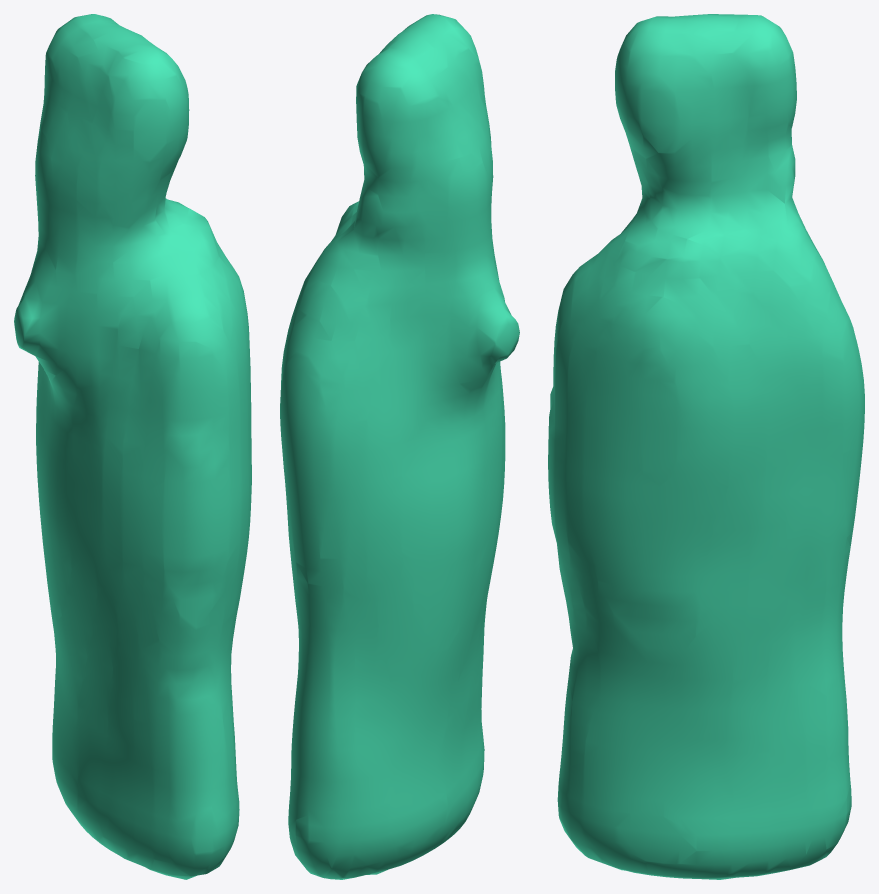
The picture shows the model from 3 angles, left to right: view 1: azimuth 30°, elevation 25°; view 2: azimuth 150°, elevation 25°; view 3: azimuth 270°, elevation 25°; orthographic projection.
Parts seen in each view (by area): view 1: Liquid_Domain; view 2: Liquid_Domain; view 3: Liquid_Domain.
Boxes of the visible parts, bbox=[...] form: Liquid_Domain: bbox=[14, 14, 251, 879]; Liquid_Domain: bbox=[280, 14, 519, 879]; Liquid_Domain: bbox=[548, 14, 864, 879].
Size of the model in its own units: 1.98 by 7.5 by 2.6.
